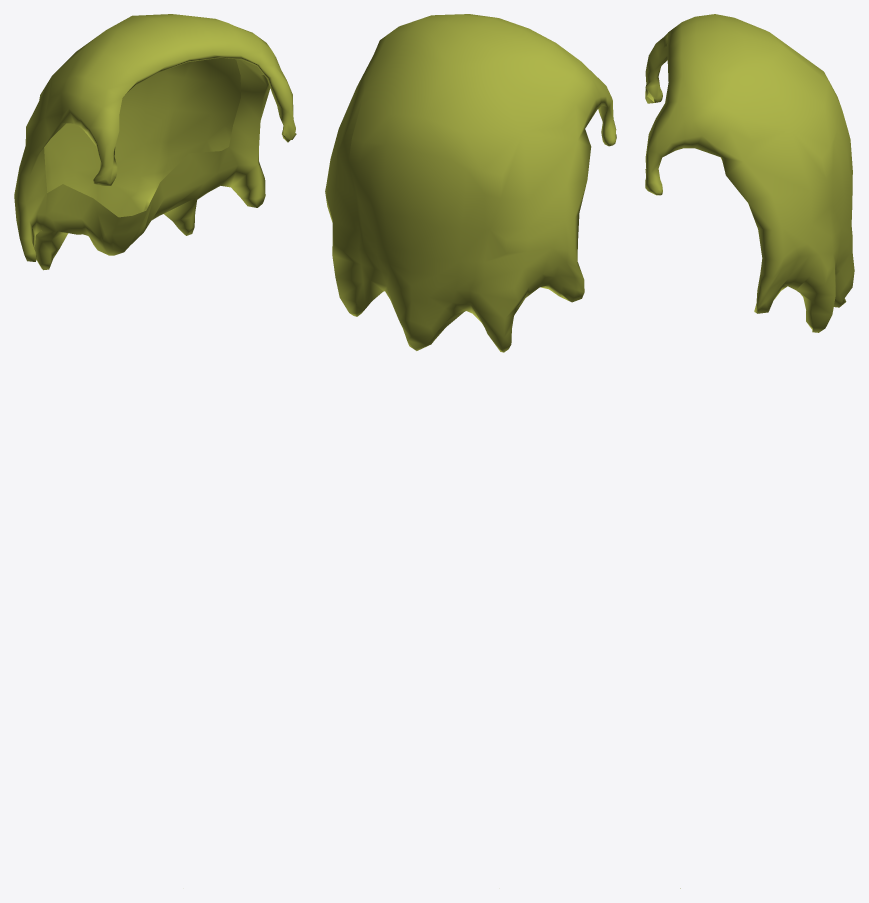
The model's file is Enemy.fbx.
The picture shows the model from 3 angles, left to right: view 1: azimuth 30°, elevation 25°; view 2: azimuth 150°, elevation 25°; view 3: azimuth 270°, elevation 25°; orthographic projection. The views are drawn at different scales.
Visible parts, largest first — view 1: Goblin1_Hair_LP; view 2: Goblin1_Hair_LP; view 3: Goblin1_Hair_LP.
Boxes of the visible parts, <box> form: Goblin1_Hair_LP: <box>14,14,296,270</box>; Goblin1_Hair_LP: <box>325,14,616,352</box>; Goblin1_Hair_LP: <box>645,14,854,332</box>.
Size of the model in its own units: 72.46 by 240 by 53.13.
